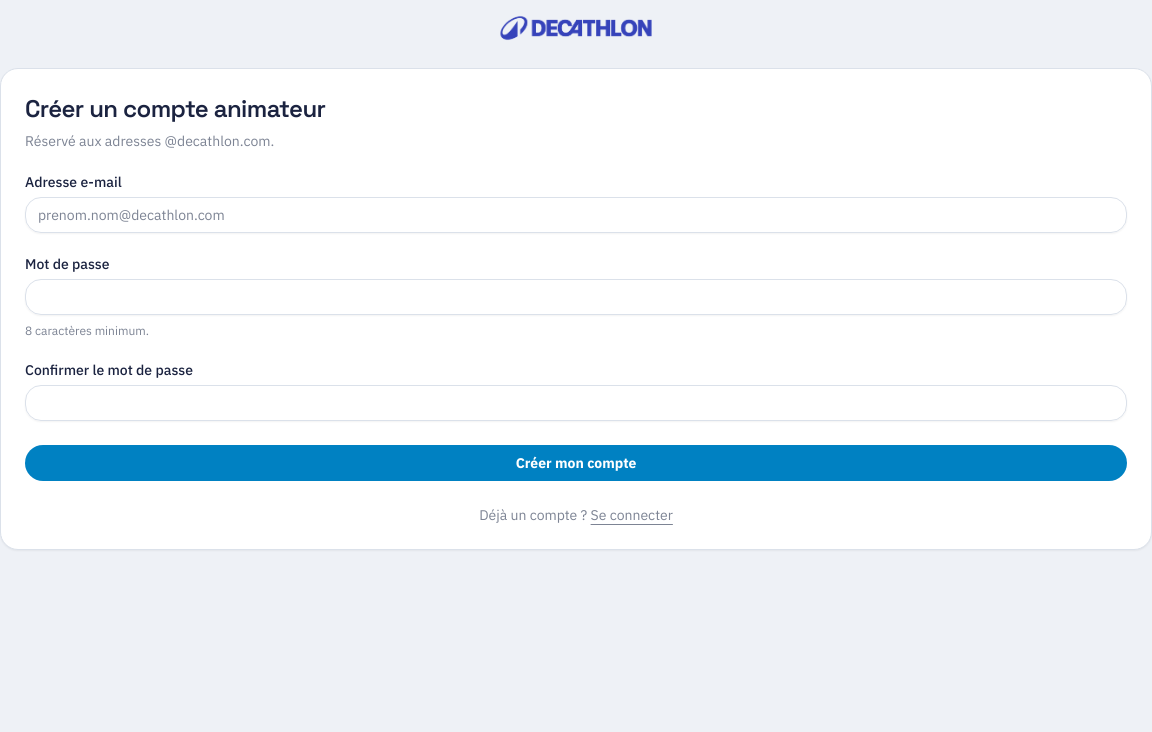
SignUpForm › refuse une adresse hors du domaine autorisé sans appeler Supabase
Type "quelquun@gmail.com" into the field labelled "Adresse e-mail" at (576, 215), box left=25, top=197, right=1127, bottom=233
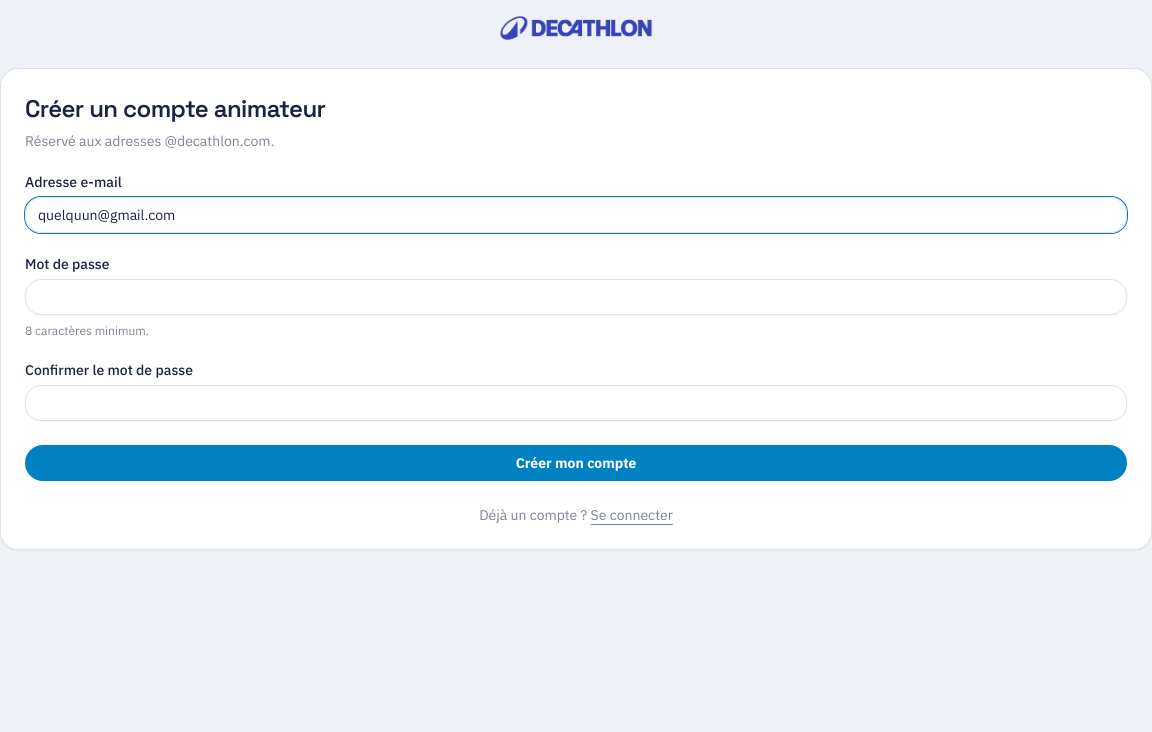
Type "motdepasse123" into the password field labelled "Mot de passe" at (576, 297), box left=25, top=279, right=1127, bottom=315
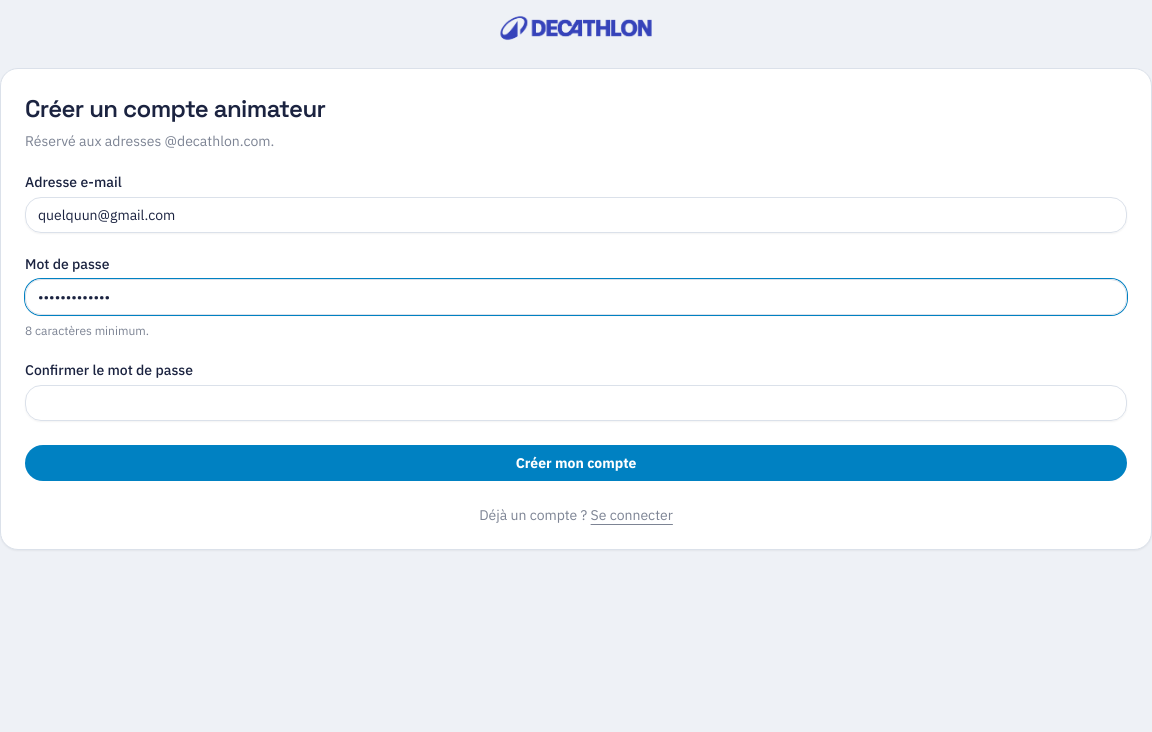
Type "motdepasse123" into the password field labelled "Confirmer le mot de passe" at (576, 403), box left=25, top=385, right=1127, bottom=421
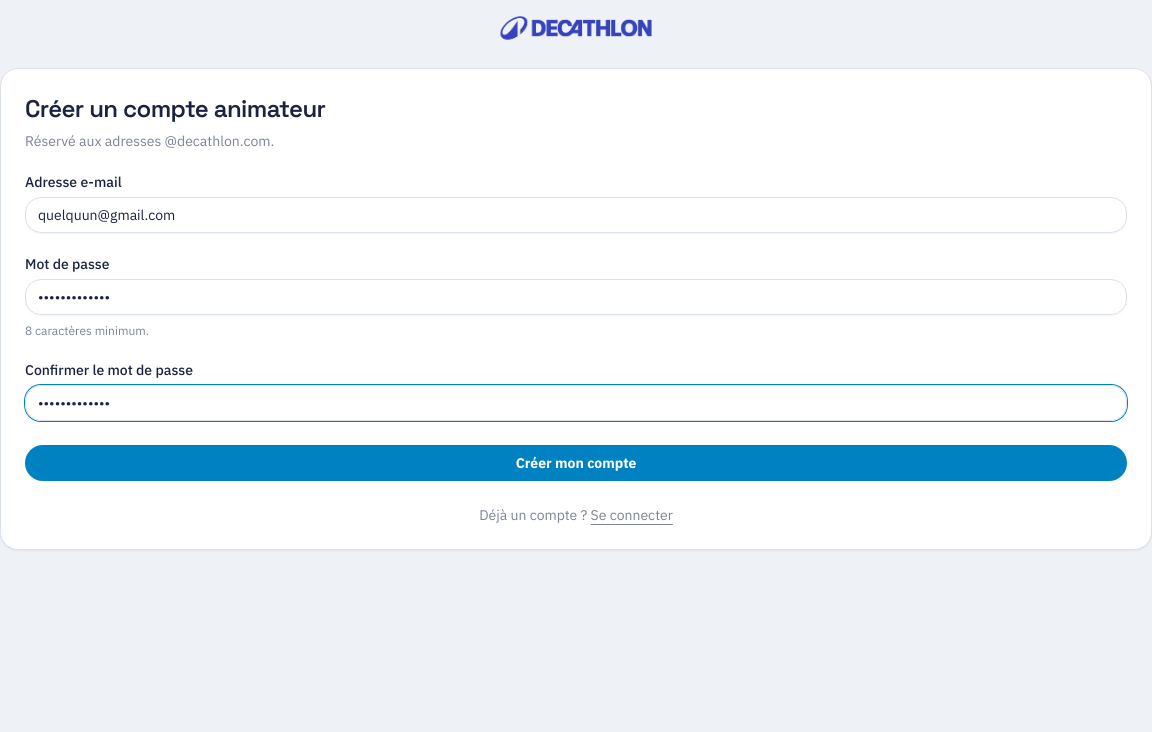
Click the button "Créer mon compte" at (576, 463), box left=25, top=445, right=1127, bottom=481
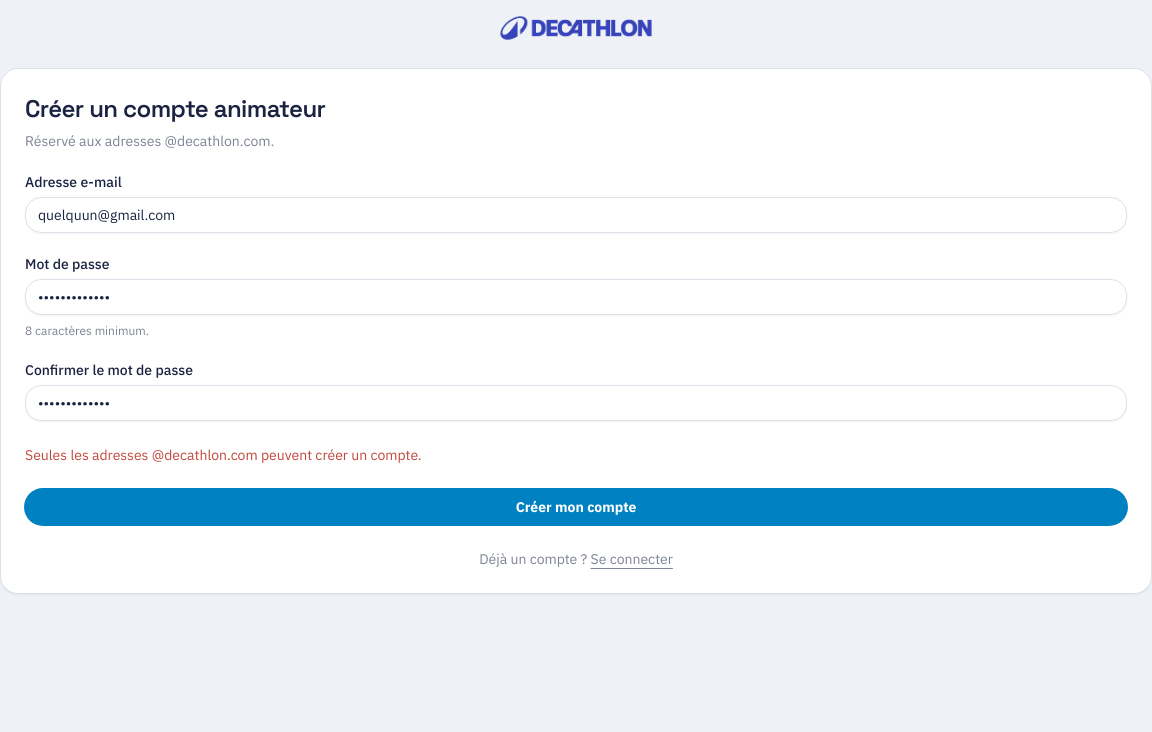
expect the text "Seules les adresses @decathlon.com peuvent créer un compte." is shown: met, box left=25, top=446, right=422, bottom=464
